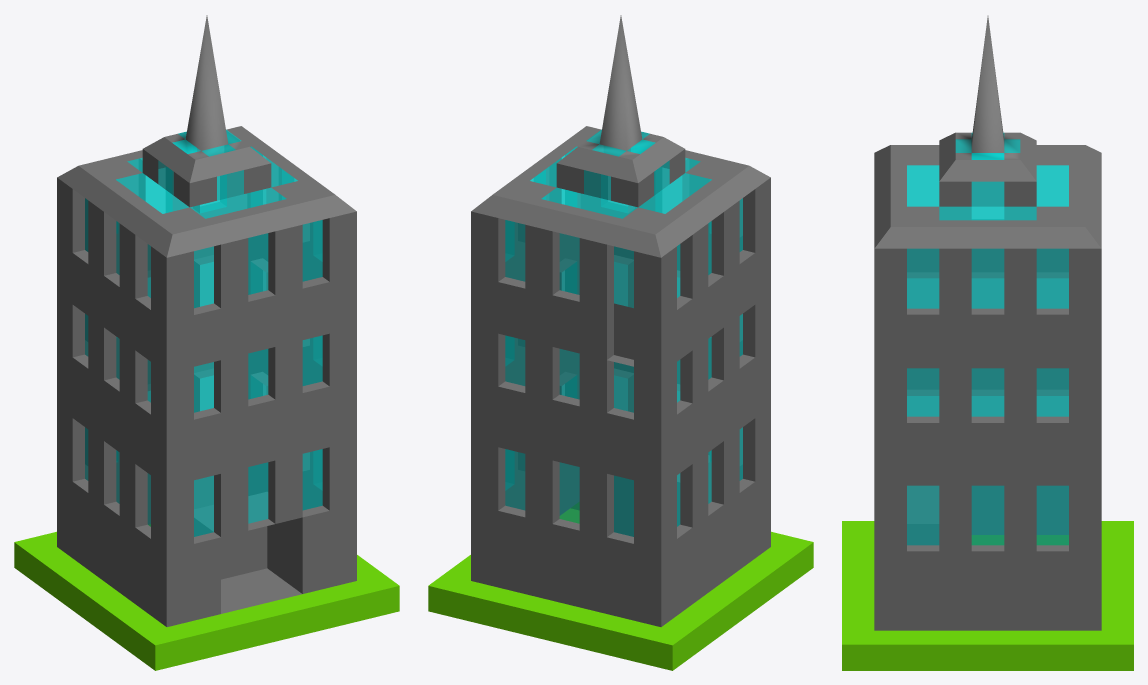
File: BuildingTall.fbx
3 renders of one model, left to right at view 1: azimuth 30°, elevation 25°; view 2: azimuth 150°, elevation 25°; view 3: azimuth 270°, elevation 25°, orthographic. The views are drawn at different scales.
Visible parts, largest first — view 1: Grass; view 2: Grass; view 3: Grass.
Boxes of the visible parts, x1=… form: Grass: x1=14, y1=15, x2=399, y2=670; Grass: x1=428, y1=15, x2=813, y2=670; Grass: x1=842, y1=15, x2=1133, y2=670.
Size of the model in its own units: 10 by 22.5 by 10.
